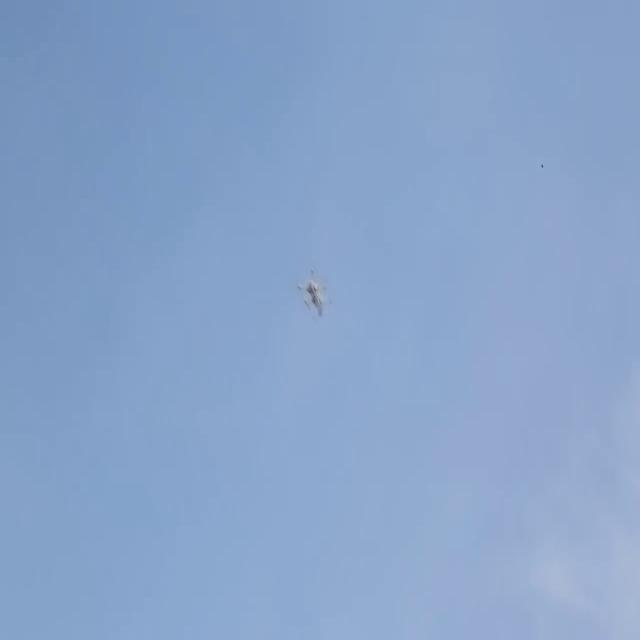drone: (296, 269, 334, 321)
